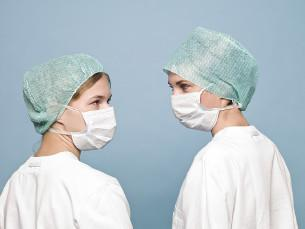OK: (63, 93, 122, 152), (168, 78, 223, 132)
